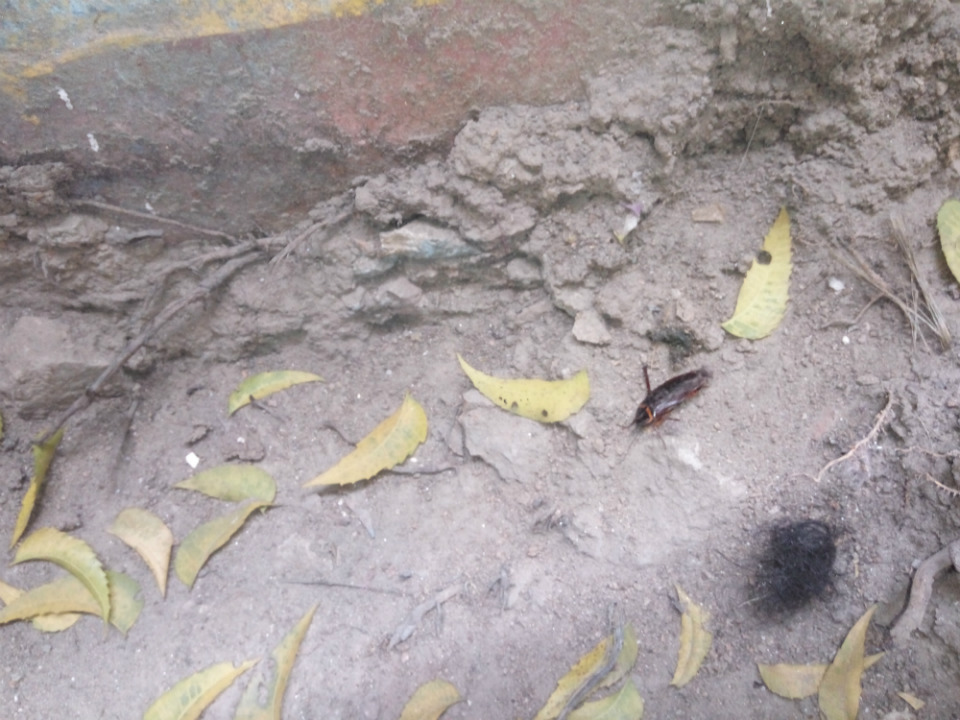cockroach: (571, 354, 742, 433)
